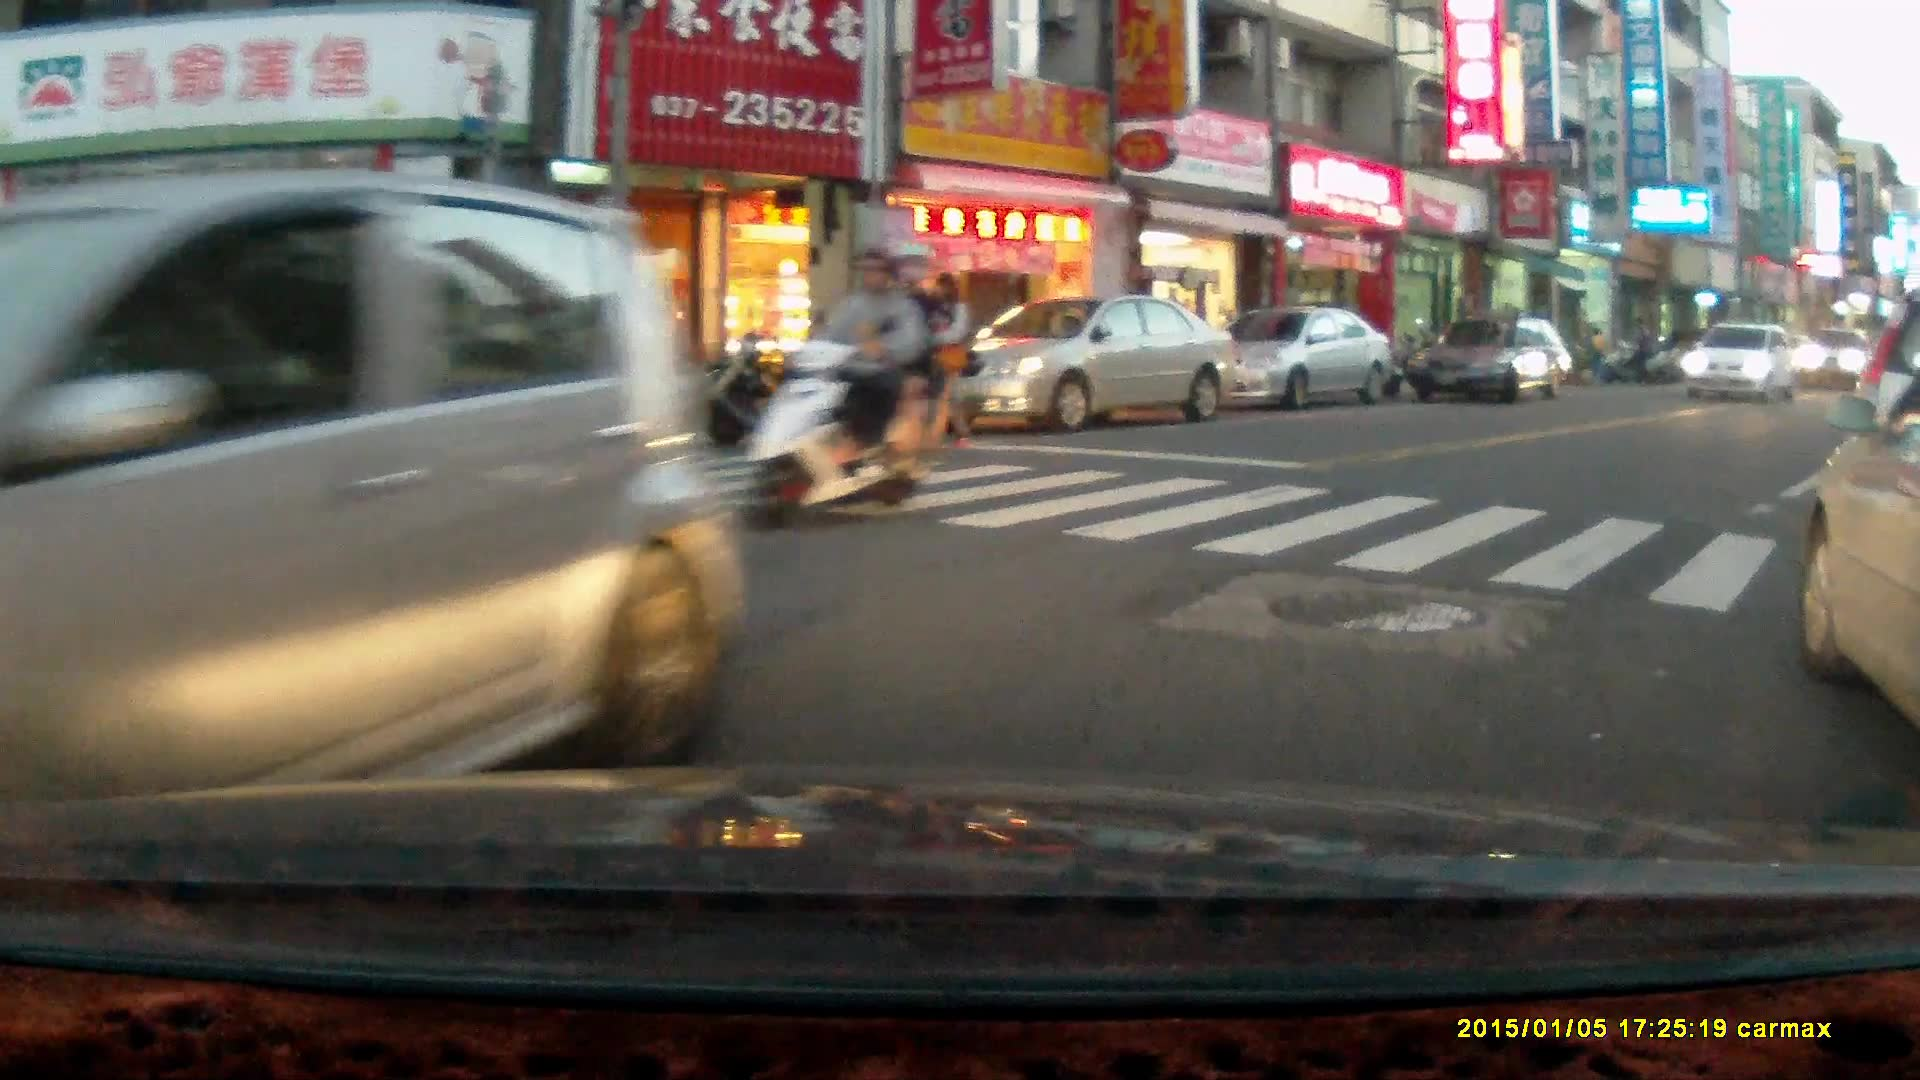pedestrian: (927, 268, 973, 450)
rider: (740, 239, 940, 534)
vehicle: (1, 163, 755, 807), (1793, 368, 1920, 728), (927, 291, 1244, 429), (1839, 295, 1920, 567), (1199, 307, 1397, 407), (1411, 313, 1575, 410), (1682, 322, 1803, 400)
